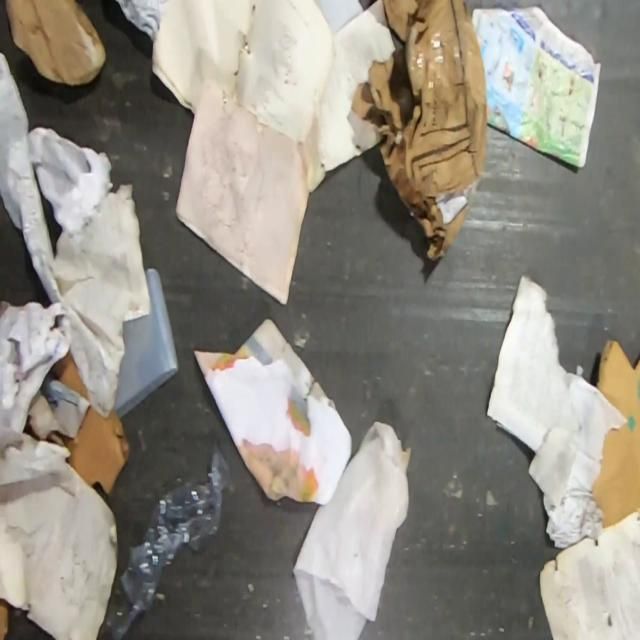cardboard: (351, 0, 489, 264), (101, 433, 237, 640), (589, 334, 640, 531), (2, 0, 108, 89), (59, 404, 133, 497), (51, 348, 89, 402), (0, 597, 12, 639)
soft_plastic: (112, 266, 182, 420)
